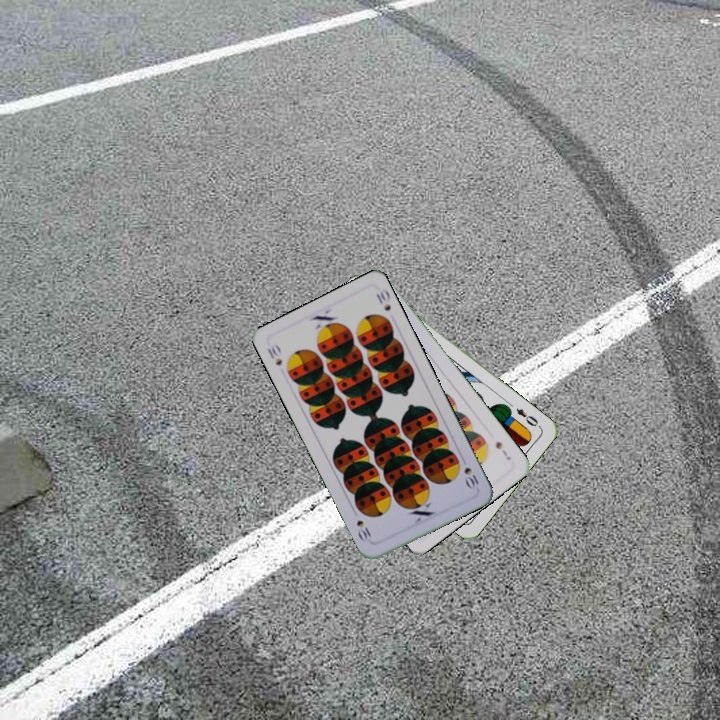EO: (512, 404, 543, 431)
S10: (457, 453, 481, 492), (263, 340, 285, 369)
S7: (491, 437, 513, 463)
